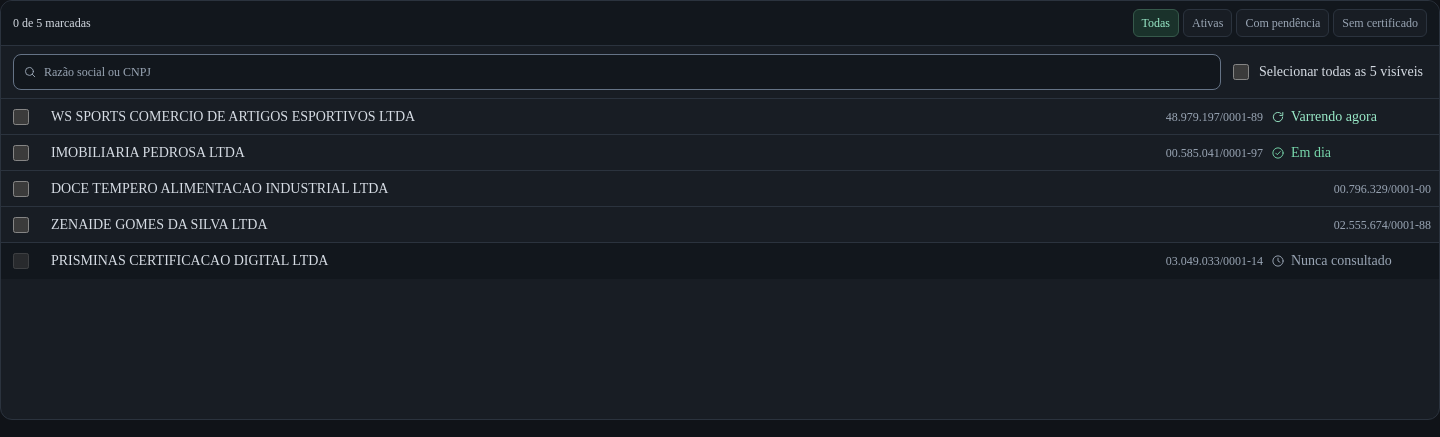
Scenario: seletor de empresas › não marca as visíveis quando a lista está vazia
Type "zzz" into the search field named "Buscar empresa".
click(617, 72); type("zzz")  # box top-left (13, 54), bottom-right (1221, 90)
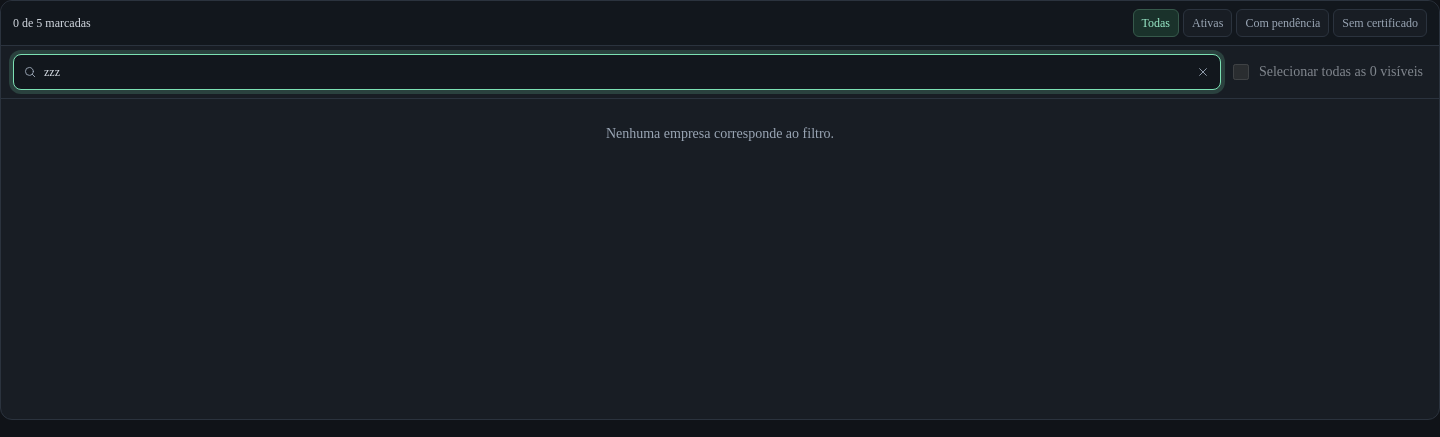
Expected: the text "Nenhuma empresa corresponde ao filtro." is shown, top-left (606, 126), bottom-right (834, 141)
Expected: the checkbox labelled "Selecionar todas as 0 visíveis" is disabled, top-left (1233, 64), bottom-right (1249, 80)
